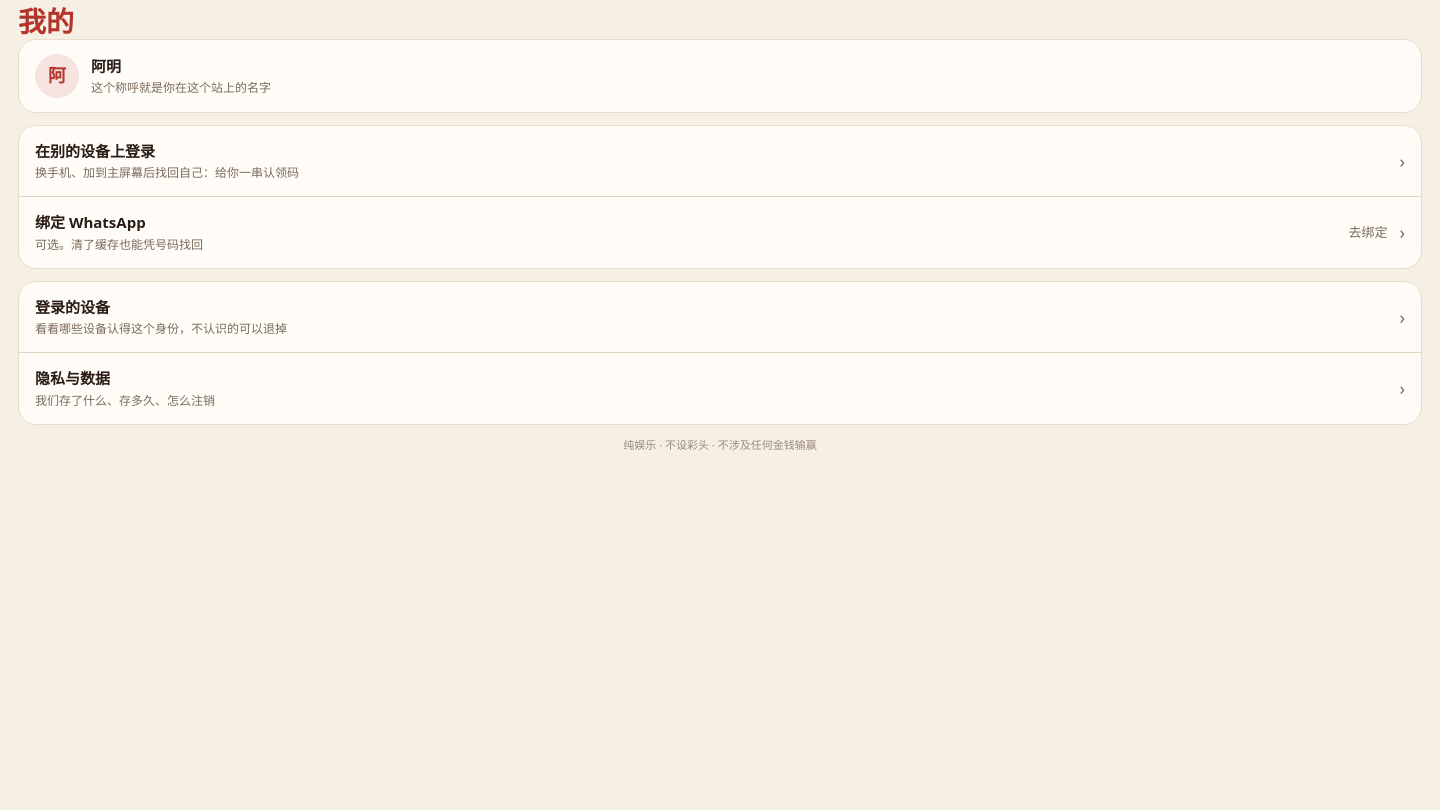
Scenario: 我的 · 在别的设备上登录（G3） › 签发太频繁（429）时说清楚，不显示空的认领码
This screenshot has width=1440, height=810.
Click the button "在别的设备上登录 换手机、加到主屏幕后找回自己：给你一串认领码 ›": (95, 151) [19,126,1421,197]
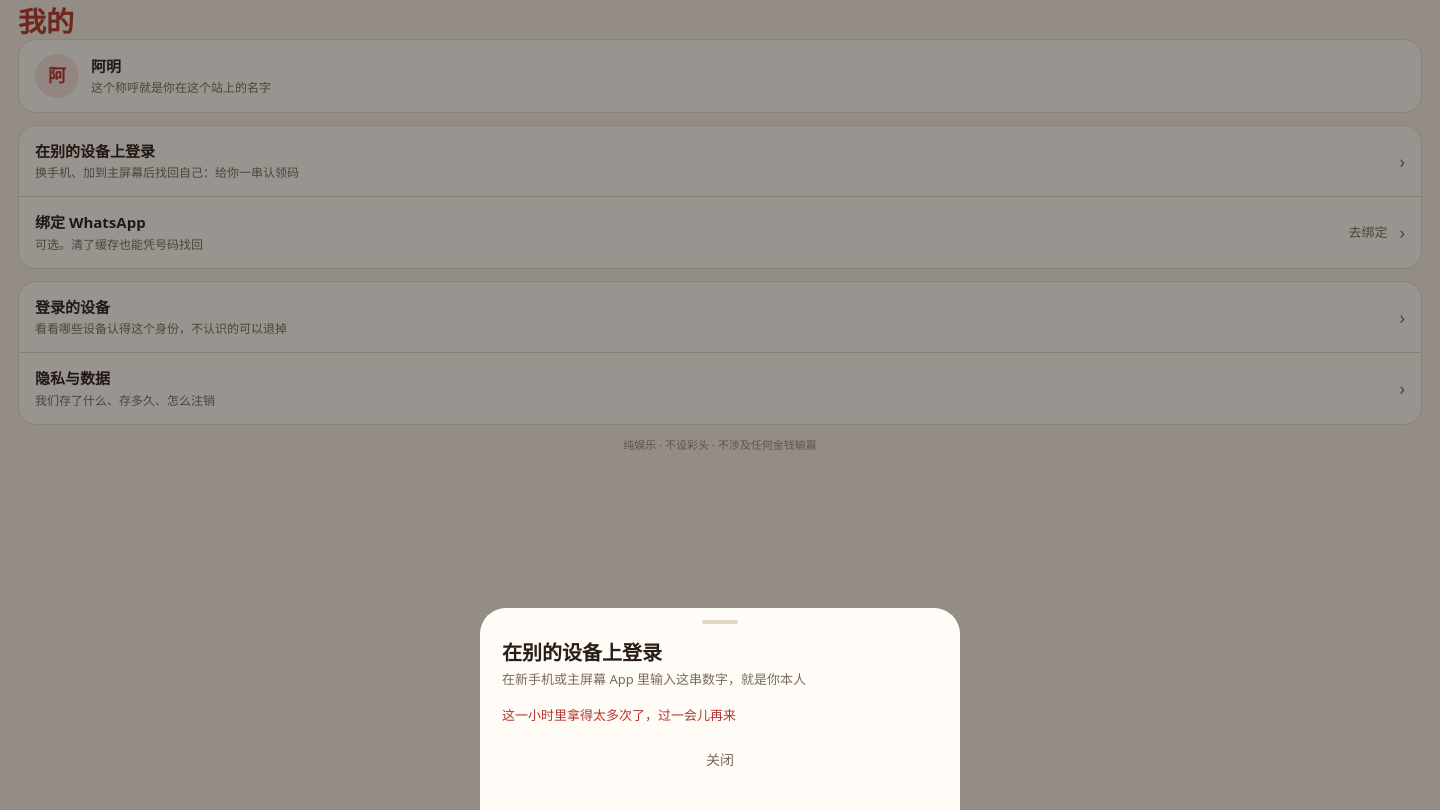
Expected: the text "过一会儿再来" is shown, [502,706,736,724]
